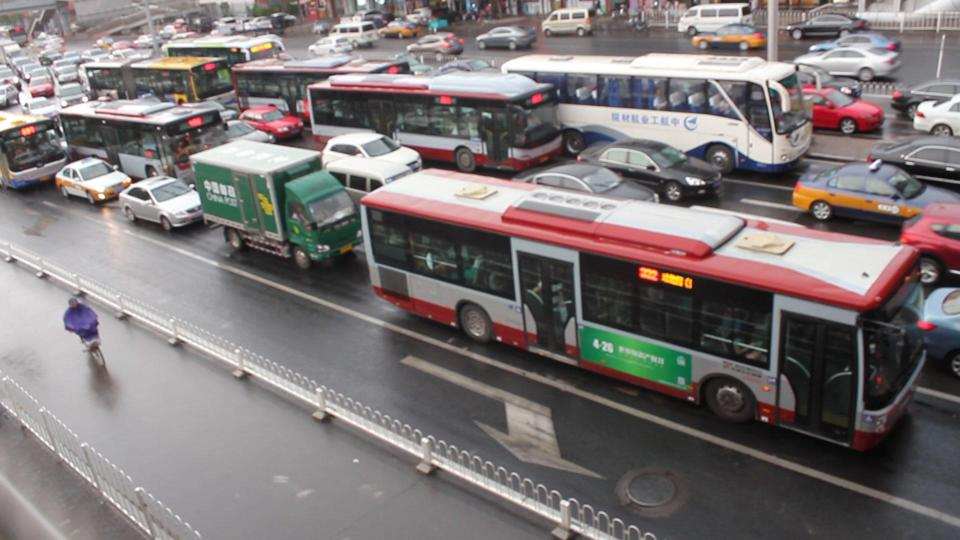Bus: (365, 165, 918, 448), (500, 55, 812, 173), (309, 70, 563, 173), (57, 102, 234, 195), (230, 60, 411, 134), (86, 60, 237, 111), (1, 109, 70, 189)
Car: (791, 161, 960, 235), (451, 192, 607, 271), (505, 160, 658, 230), (573, 137, 721, 200), (865, 135, 960, 202), (321, 131, 420, 189), (211, 156, 312, 211), (897, 202, 960, 284), (119, 174, 208, 229), (193, 117, 277, 165), (57, 153, 133, 203), (238, 105, 304, 143), (174, 103, 240, 139)
Minivan: (659, 203, 851, 325), (324, 157, 437, 232)
Truck: (191, 138, 358, 269)
